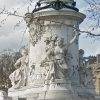Statue: (15, 22, 89, 96)
